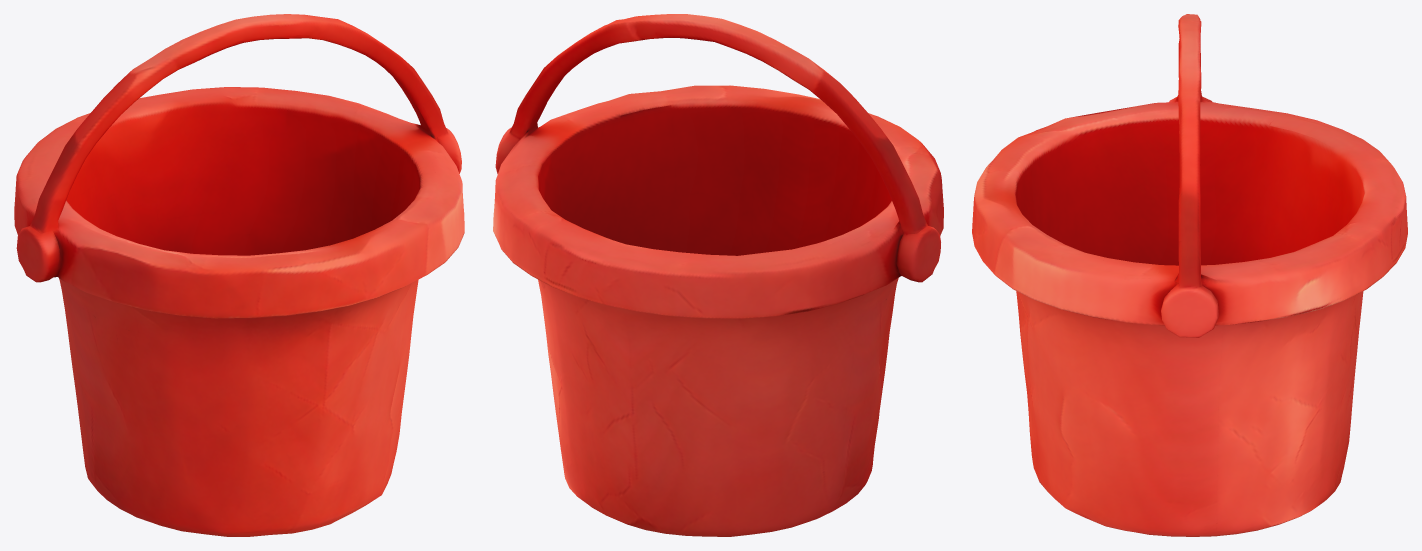
Rendered from base_basic_shaded.fbx.
3 renders of one model, left to right at view 1: azimuth 30°, elevation 25°; view 2: azimuth 150°, elevation 25°; view 3: azimuth 270°, elevation 25°, orthographic. The views are drawn at different scales.
Visible parts, largest first — view 1: model; view 2: model; view 3: model.
Boxes of the visible parts, bbox=[...] form: model: bbox=[14, 14, 464, 536]; model: bbox=[493, 14, 943, 536]; model: bbox=[972, 14, 1407, 536].
Bounding box in the file's own units: 164 × 171 × 152.
